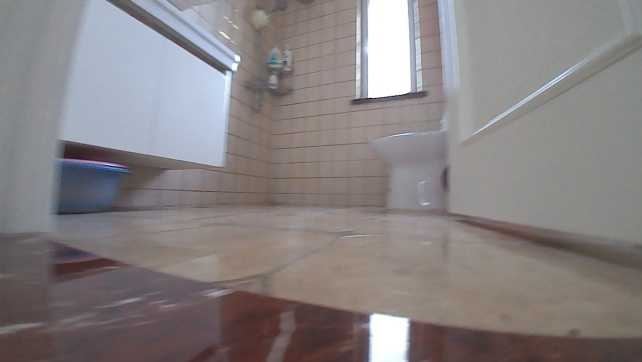toilet: (368, 110, 449, 214)
